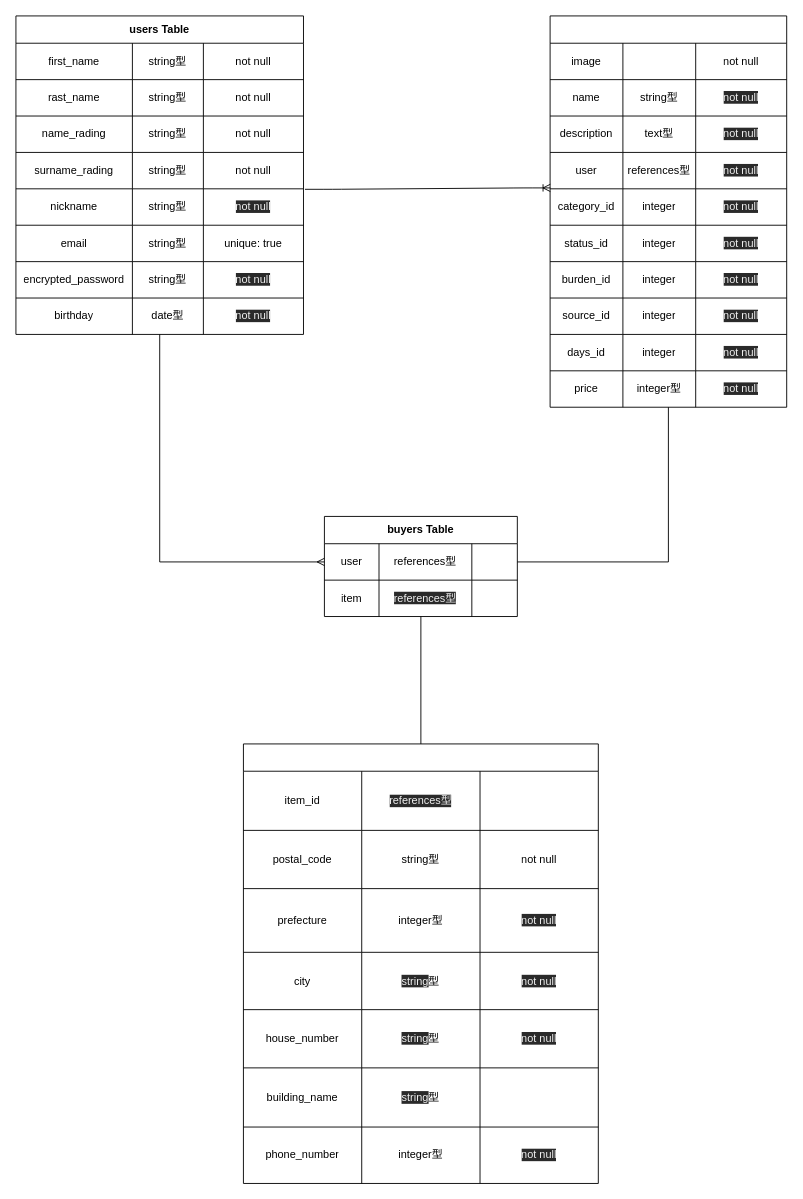
Image size: 803x1199. Some labels were removed from this diagram. Each missing label, with the box of its shape:
addresses Table: (243, 743, 598, 1183)
items Table: (549, 15, 787, 407)
